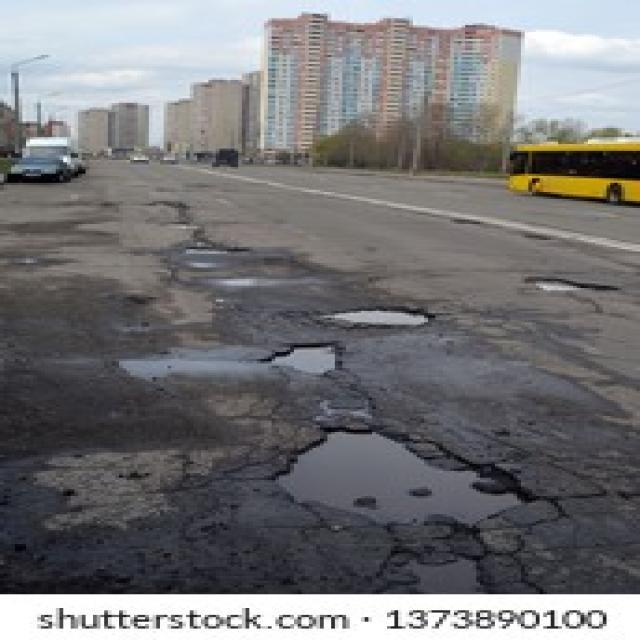Pothole: (275, 425, 536, 528), (387, 551, 491, 592), (260, 340, 342, 372), (328, 308, 432, 327), (524, 276, 622, 292), (186, 244, 250, 258), (454, 214, 480, 227), (524, 233, 550, 240)
